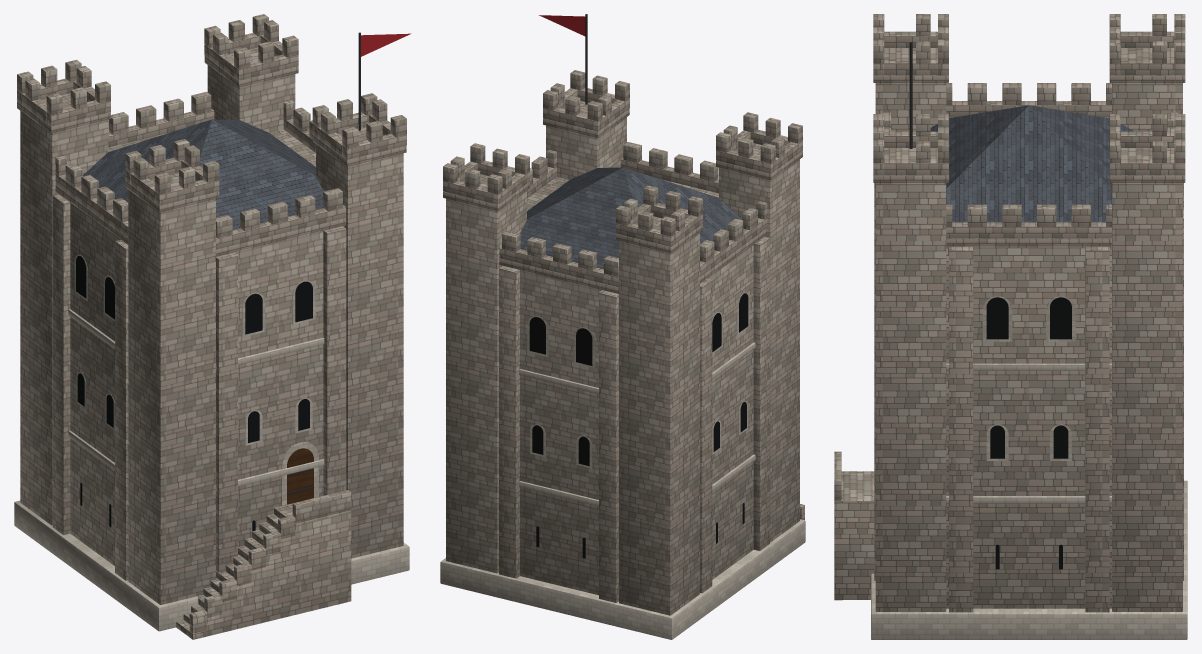
File: castle-keep.glb
3 views of the same model, side by side, from view 1: azimuth 30°, elevation 25°; view 2: azimuth 150°, elevation 25°; view 3: azimuth 270°, elevation 25° (orthographic). The views are drawn at different scales.
Visible parts, largest first — view 1: Castle_Keep; view 2: Castle_Keep; view 3: Castle_Keep.
Boxes of the visible parts, x1,y1,x2,y2 form: Castle_Keep: (14, 14, 411, 639); Castle_Keep: (440, 14, 805, 639); Castle_Keep: (834, 14, 1187, 639).
Bounding box in the file's own units: 14.04 × 26.3 × 14.5.
7 materials, 4 textured.
